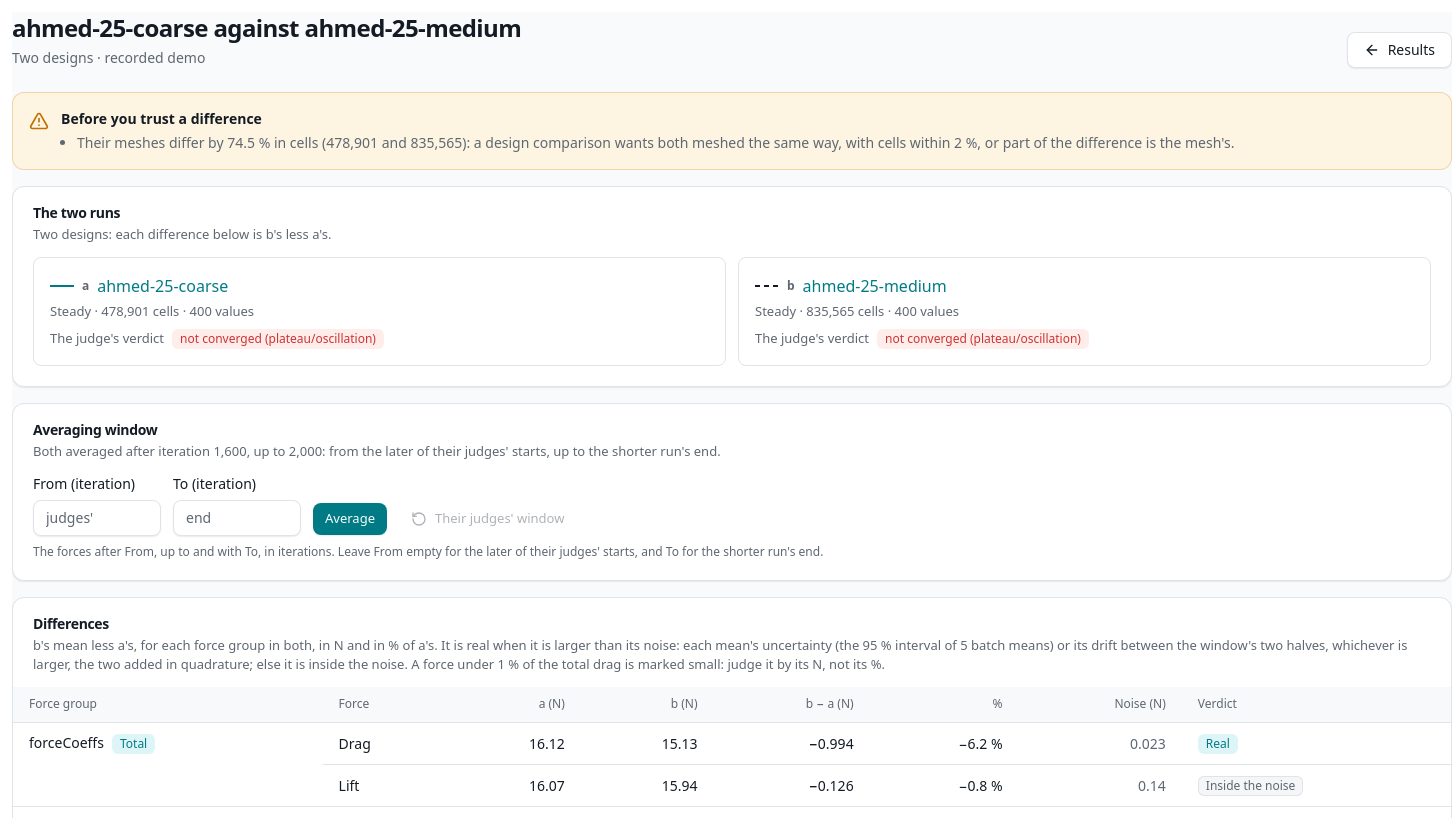
Test: the Compare screen › puts the two designs' cells warning first, and says the demo can't average them over another window
Expected: the text "Two designs · recorded demo" is shown, 12,48 -> 205,67
Type "1000" into the field labelled "From (iteration)".
click(97, 518); type("1000")  # box 33,500 -> 161,536
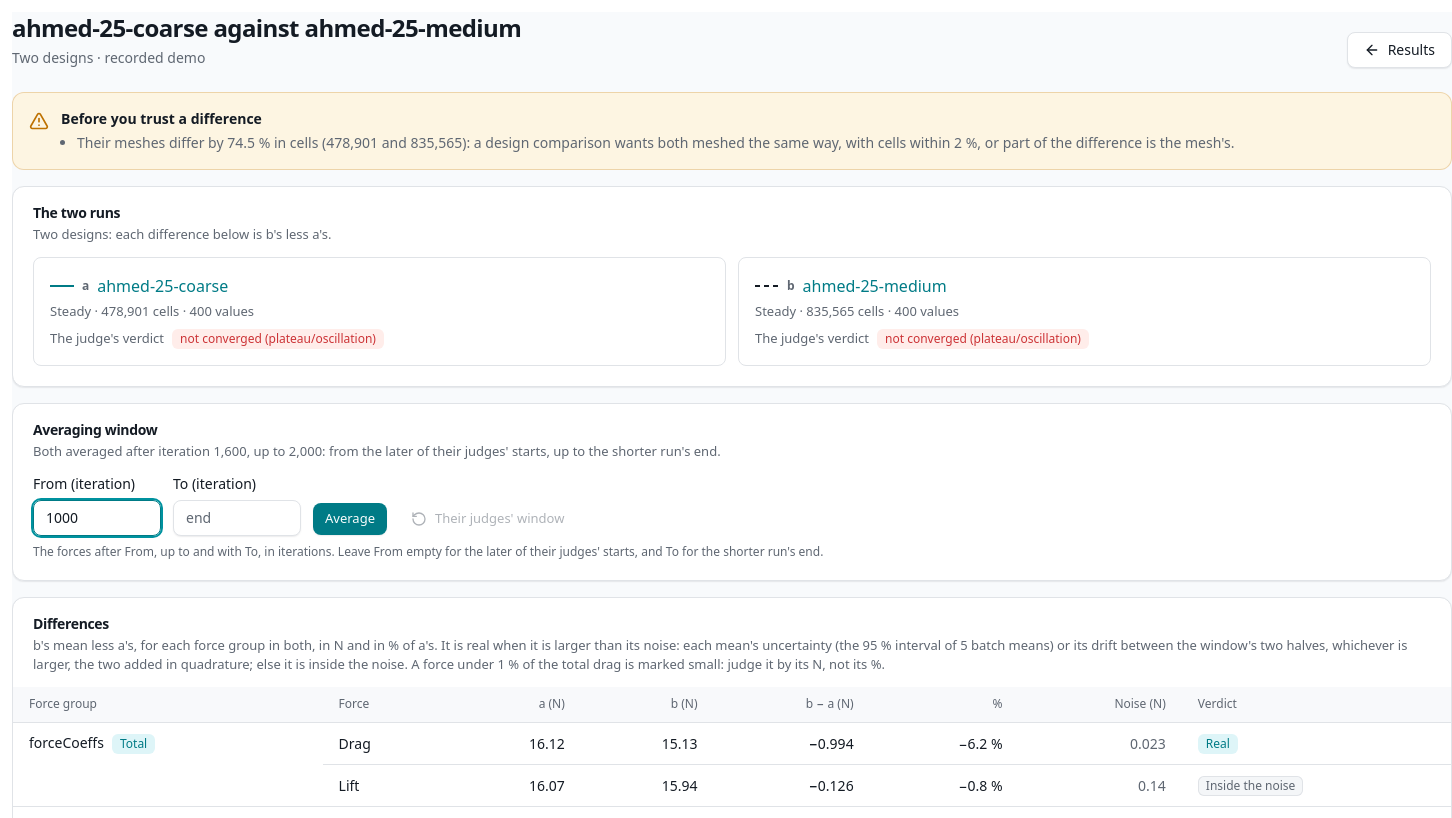
Click the button "Average".
click(350, 518)  # box 313,502 -> 387,534
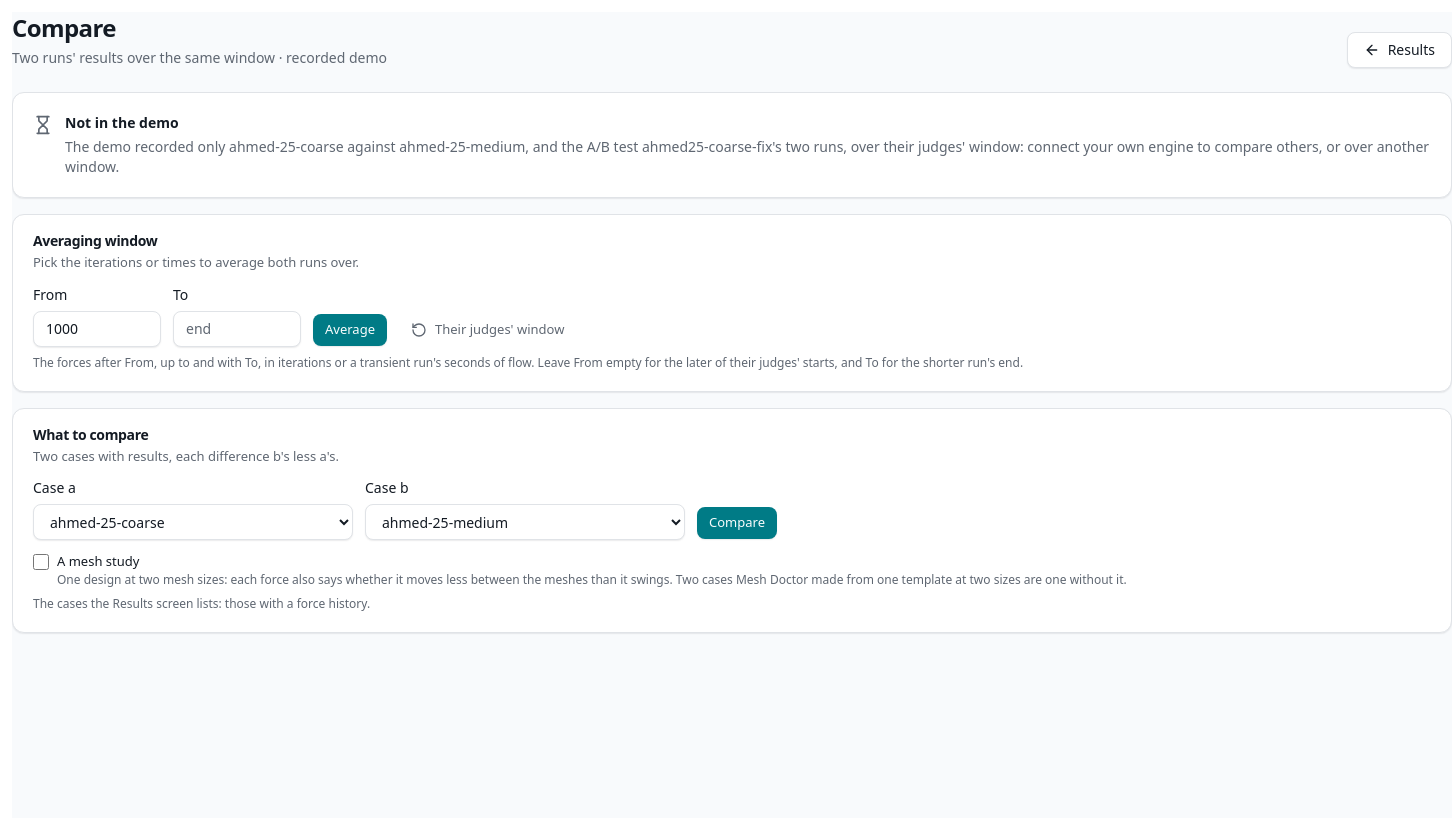
Expected: the text "Not in the demo" is shown, 65,113 -> 179,132
// its window card stays, to go back to their judges' window
Click the button "Their judges' window".
click(488, 330)  # box 399,314 -> 576,346
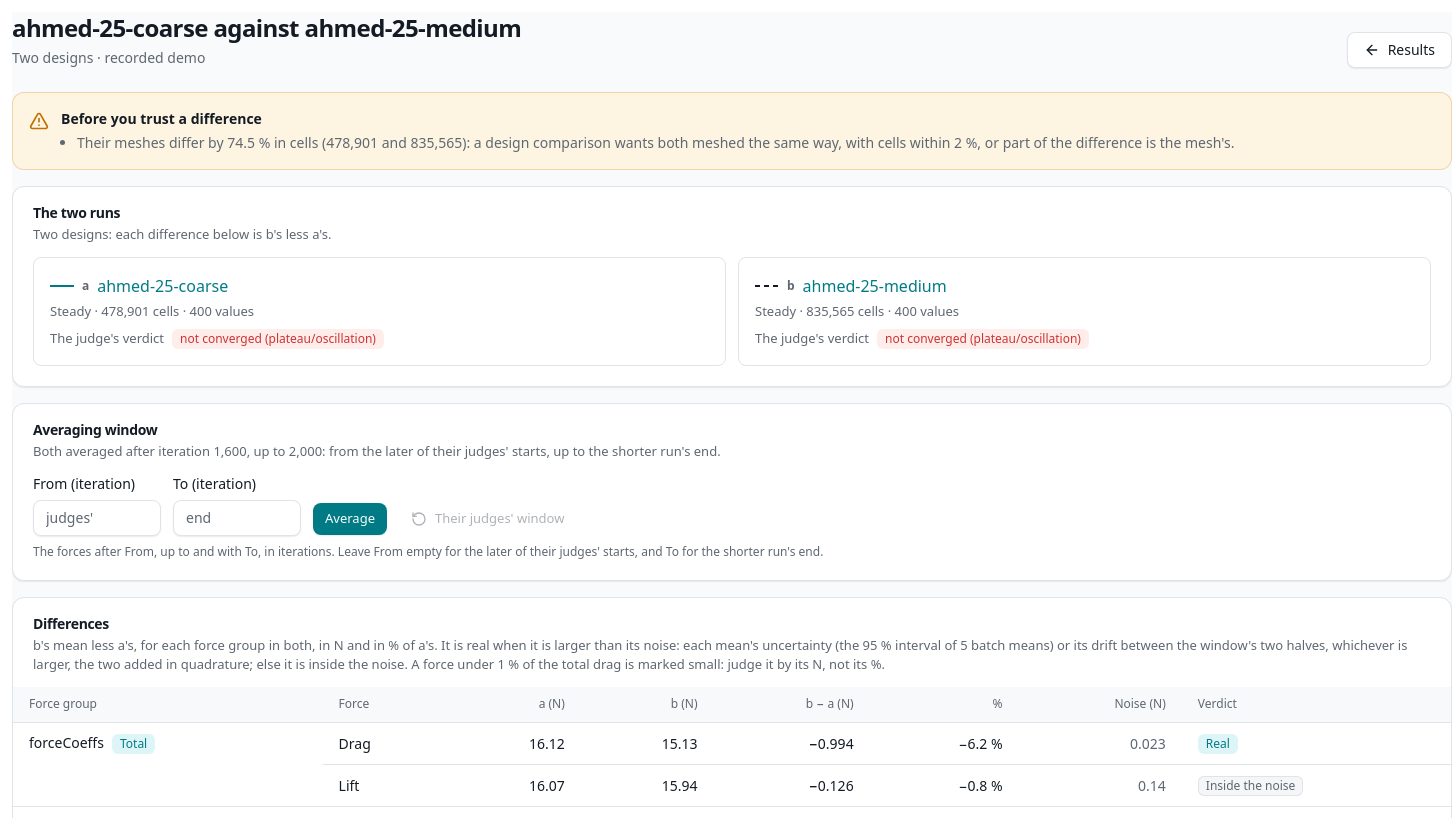
Expected: the text "Two designs · recorded demo" is shown, 12,48 -> 205,67
